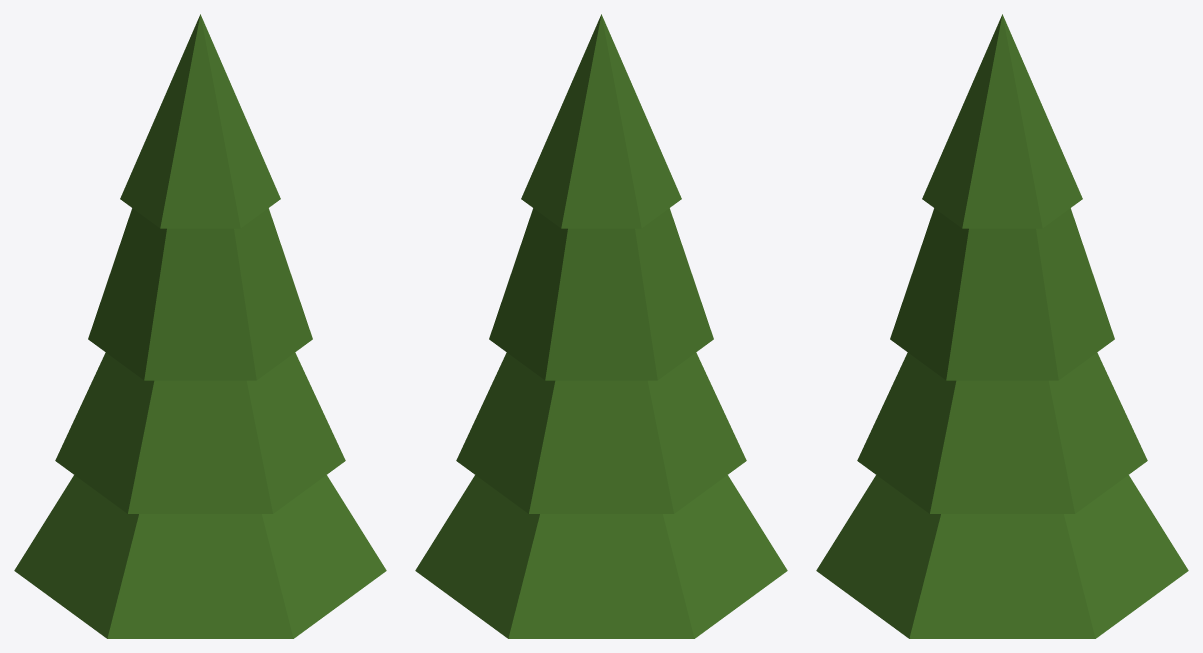
The model's file is tree_pineGroundA.glb.
3 renders of one model, left to right at view 1: azimuth 30°, elevation 25°; view 2: azimuth 150°, elevation 25°; view 3: azimuth 270°, elevation 25°, orthographic.
Visible parts, largest first — view 1: tree_pineGroundA; view 2: tree_pineGroundA; view 3: tree_pineGroundA.
Part boxes in pixels (bbox=[...]): tree_pineGroundA: bbox=[14, 14, 386, 638]; tree_pineGroundA: bbox=[415, 14, 787, 638]; tree_pineGroundA: bbox=[816, 14, 1188, 638].
Size of the model in its own units: 0.4804 by 0.9145 by 0.5547.
